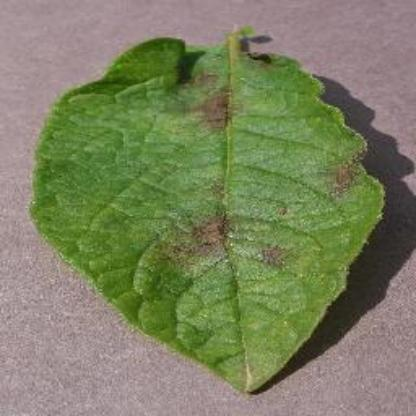Late-Blight: (26, 27, 390, 394)
